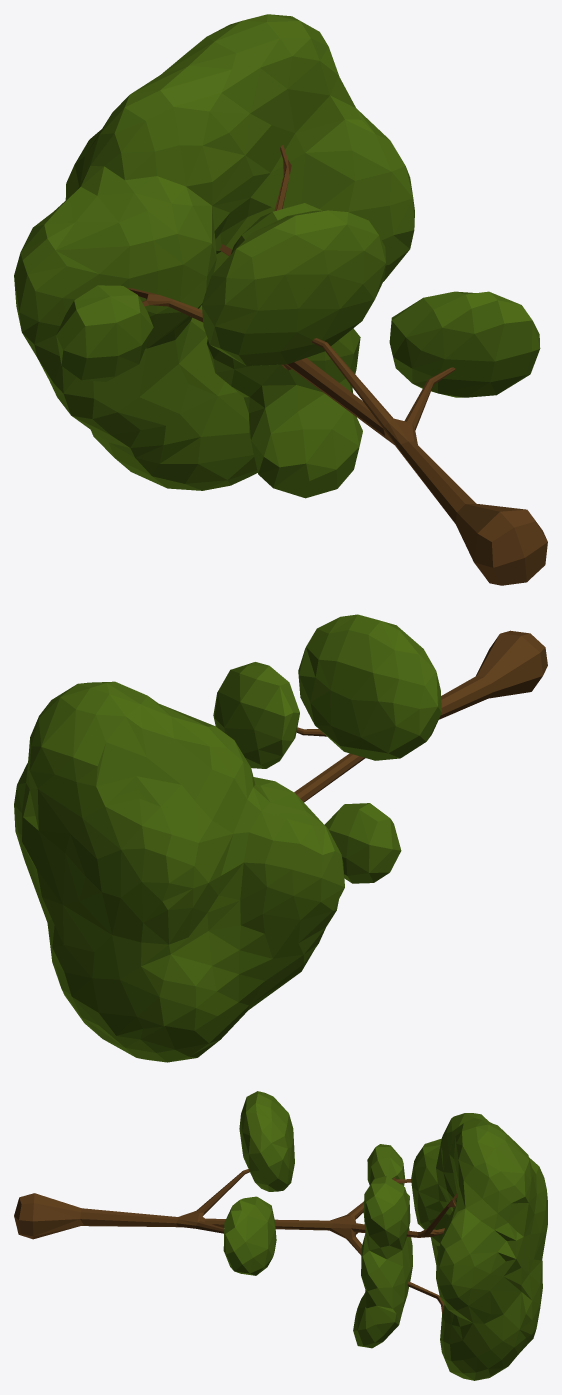
File: TreeRescaledVariant190degree.fbx
3 renders of one model, top to bottom at view 1: azimuth 30°, elevation 25°; view 2: azimuth 150°, elevation 25°; view 3: azimuth 270°, elevation 25°, orthographic. The views are drawn at different scales.
Parts seen in each view (by area): view 1: Tree.001; view 2: Tree.001; view 3: Tree.001.
Boxes of the visible parts, <box> form: Tree.001: <box>14,14,547,585</box>; Tree.001: <box>14,614,547,1062</box>; Tree.001: <box>14,1091,547,1380</box>.
Bounding box in the file's own units: 1945 × 1023 × 1059.
